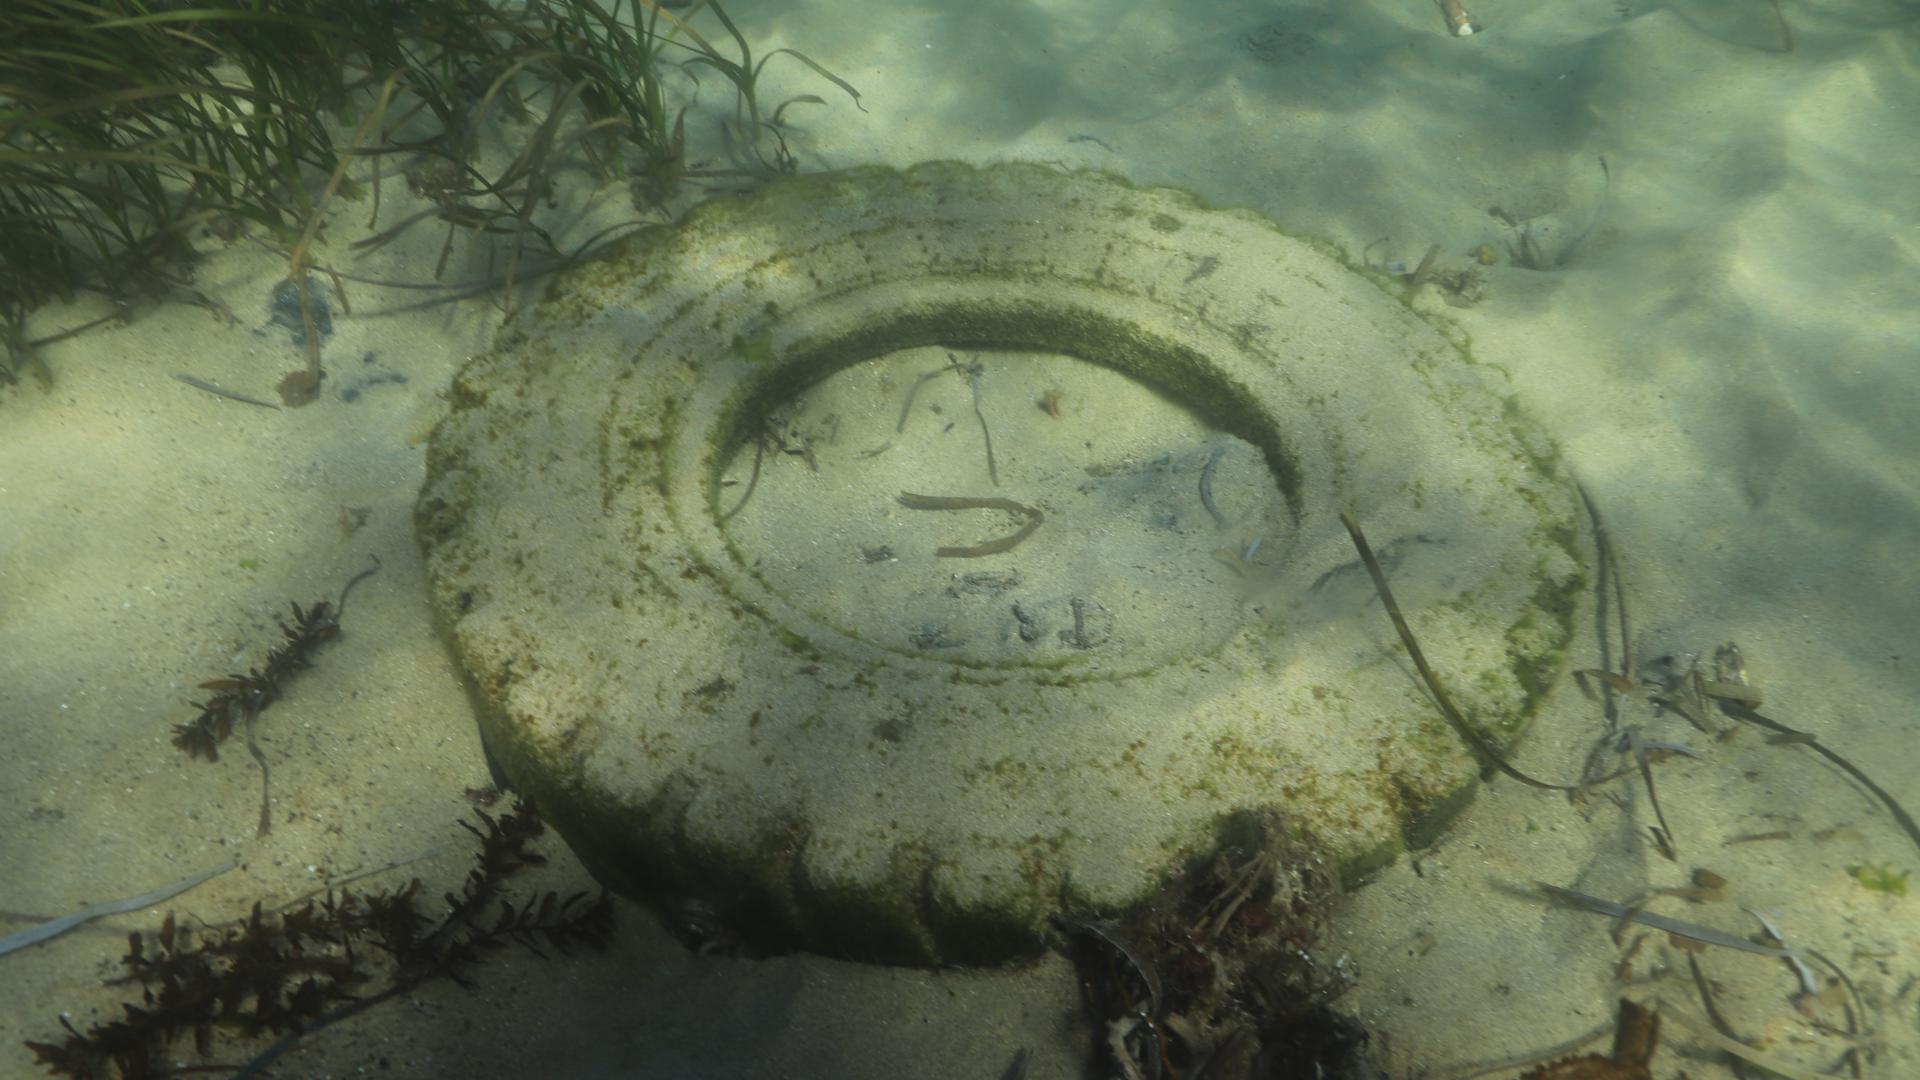tire: (410, 158, 1588, 971)
